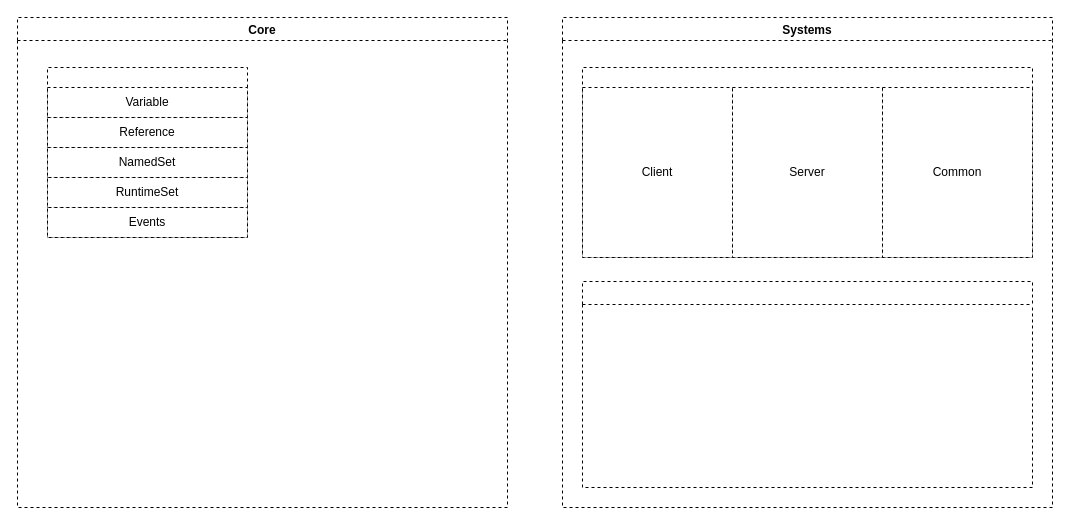
Image size: 1070x525. Some labels were removed from this diagram. The box of each missing label's shape, as (x1, y1, x2, y2) in pixels:
Console: (582, 280, 1032, 488)
Networking: (582, 66, 1032, 258)
ScriptableObject Variables: (46, 66, 248, 238)
